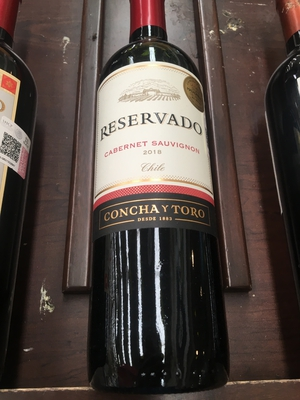reservado cabernet sauvignon: (88, 16, 234, 397)
